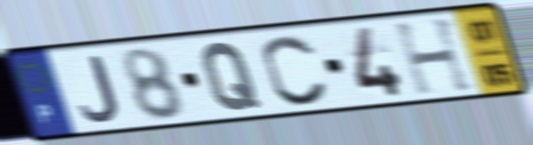4: (353, 24, 405, 99)
8: (121, 46, 186, 122)
C: (259, 32, 332, 108)
H: (389, 14, 479, 98)
J: (77, 53, 123, 125)
Q: (199, 39, 264, 113)
